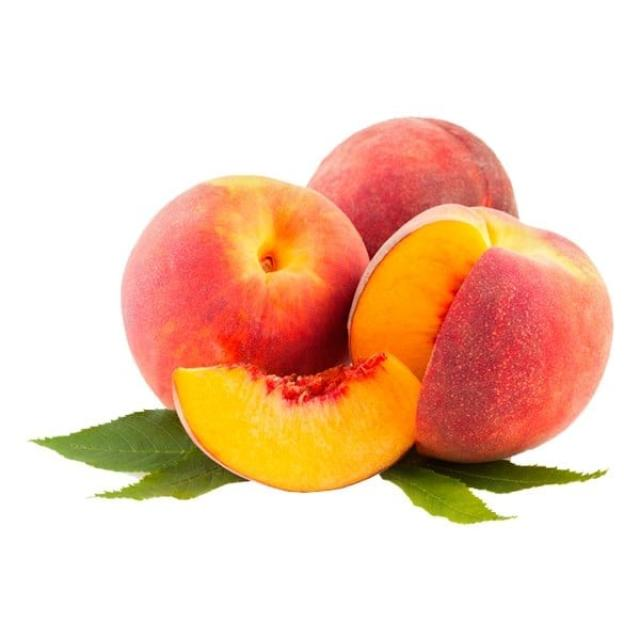peach: (347, 204, 613, 465), (121, 176, 369, 411), (307, 117, 519, 259)
